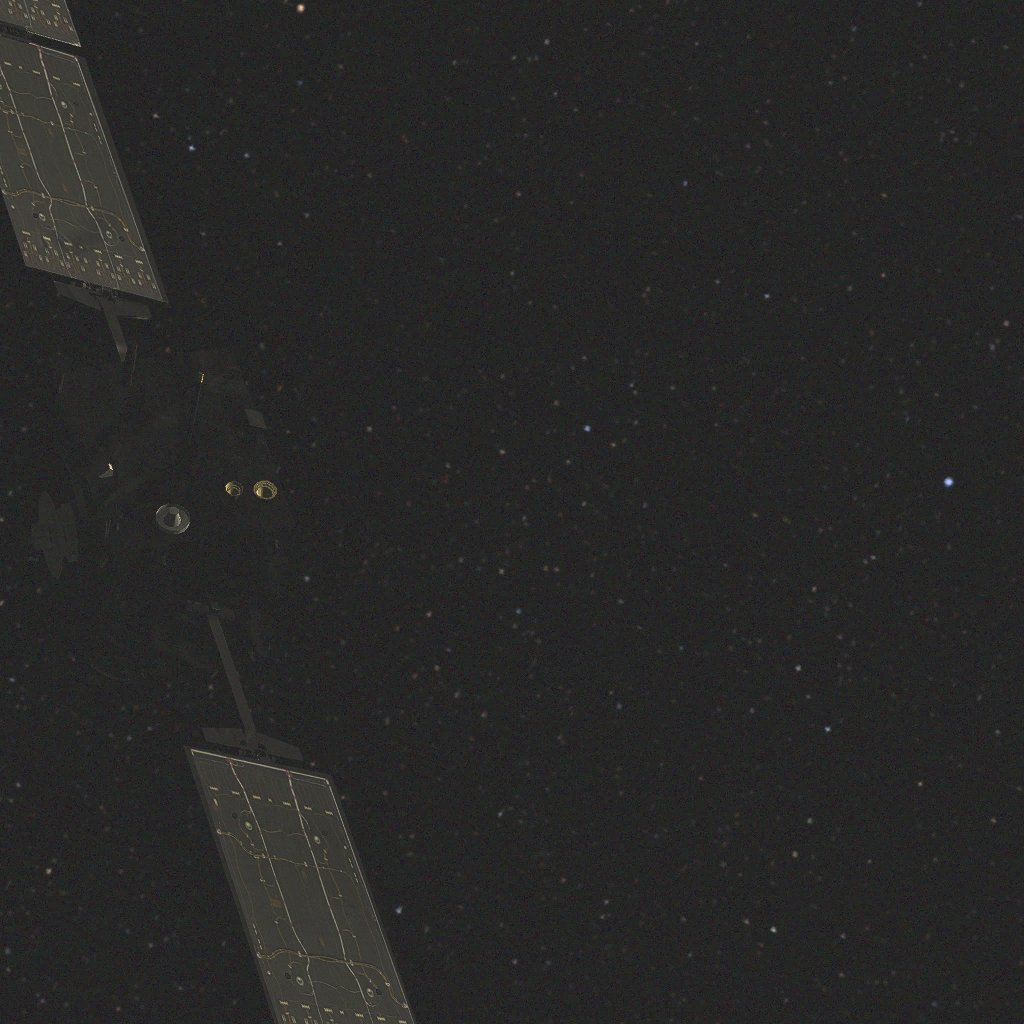smart_1: (0, 0, 417, 1024)
